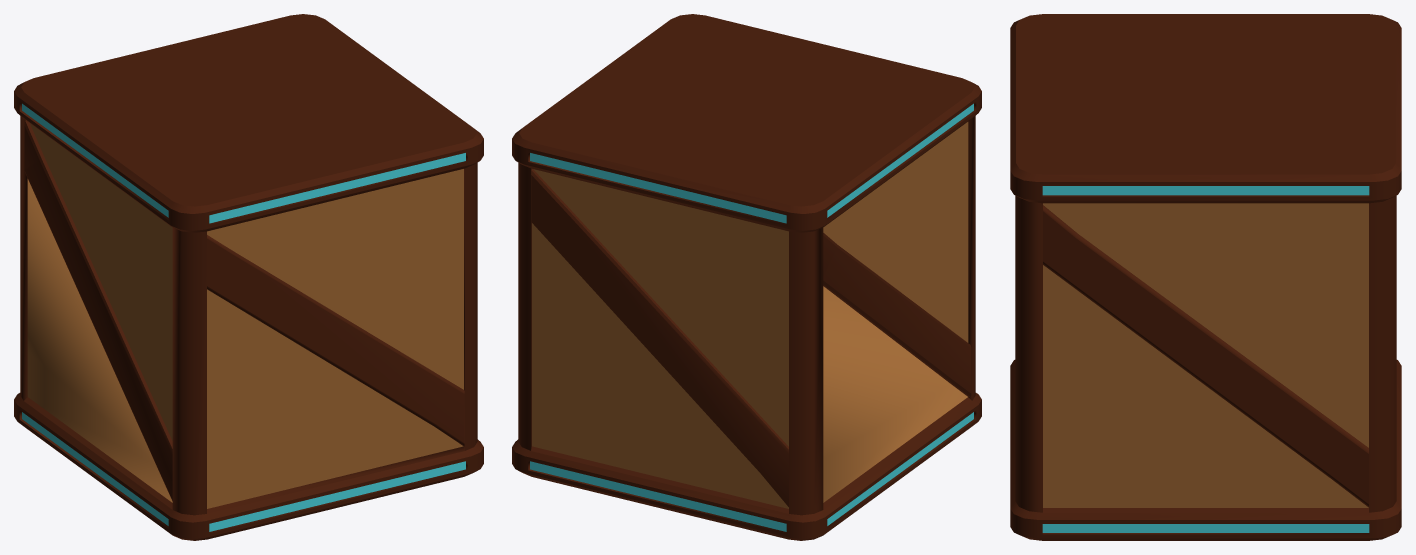
File: CaisseCommerce1.5m.fbx
3 views of the same model, side by side, from view 1: azimuth 30°, elevation 25°; view 2: azimuth 150°, elevation 25°; view 3: azimuth 270°, elevation 25° (orthographic). The views are drawn at different scales.
Parts seen in each view (by area): view 1: Cube.001; view 2: Cube.001; view 3: Cube.001.
Part boxes in pixels (box(x1,y1,x2,y2)): Cube.001: box(14, 14, 483, 540); Cube.001: box(512, 14, 981, 540); Cube.001: box(1010, 14, 1401, 540).
Bounding box in the file's own units: 147 × 152 × 147.
